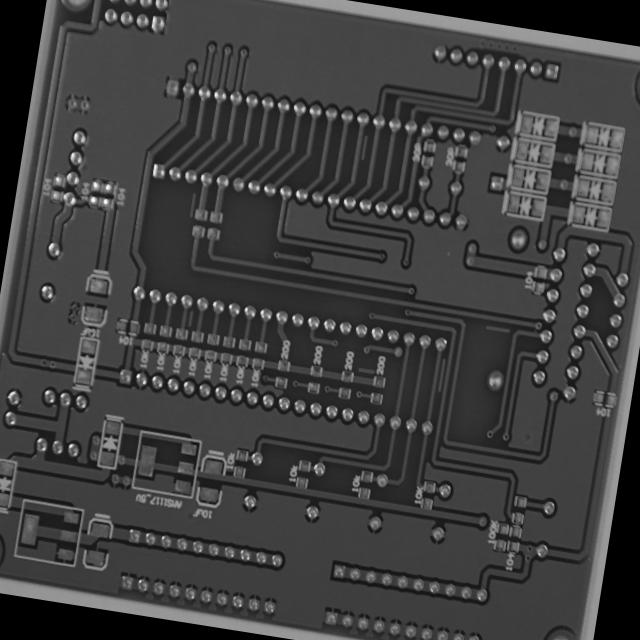spurious_copper: (433, 353, 452, 397), (482, 318, 514, 341), (185, 188, 201, 220), (356, 132, 372, 162), (355, 362, 378, 380)
